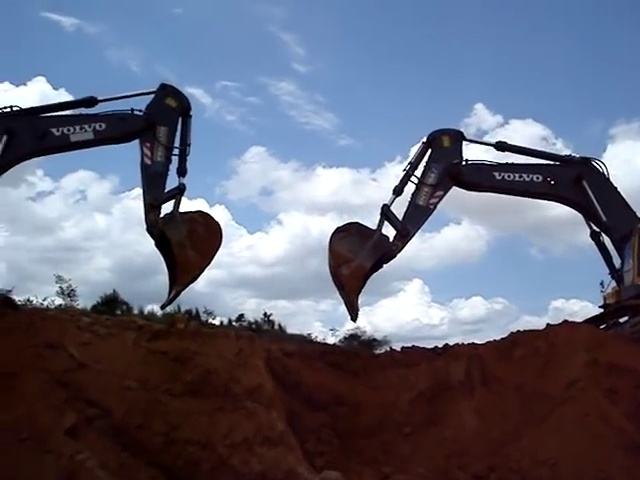excavator: (326, 127, 638, 333), (2, 83, 230, 313)
